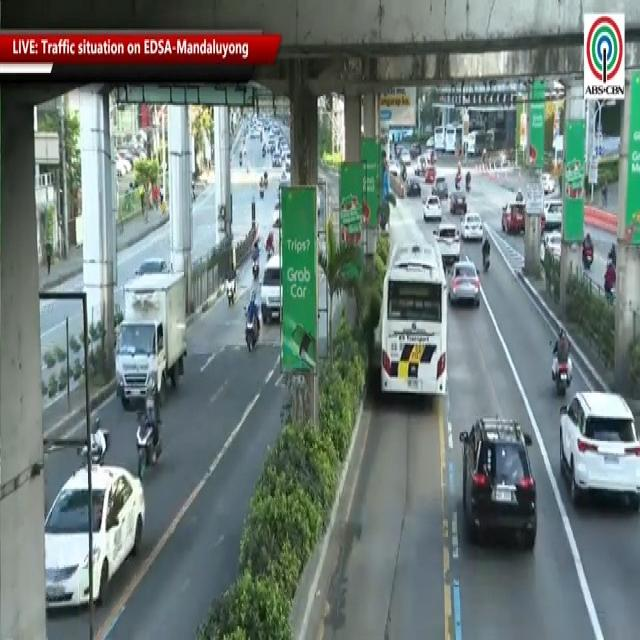car: (40, 468, 147, 612), (459, 409, 541, 551), (560, 388, 640, 526), (448, 263, 487, 309), (463, 204, 489, 249), (434, 222, 461, 262)
motorbike: (130, 373, 164, 483), (78, 402, 108, 480), (549, 323, 575, 405), (240, 293, 263, 351), (224, 248, 238, 304), (482, 225, 491, 285)
truck: (111, 270, 187, 411)
